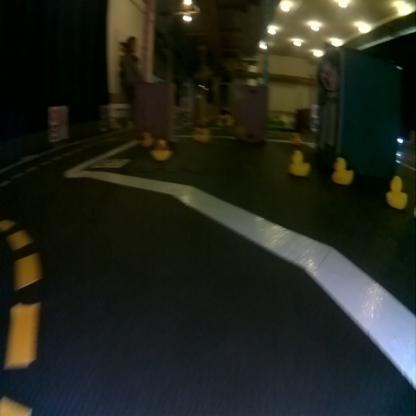Duckie: (386, 175, 406, 209), (331, 157, 353, 184), (289, 150, 308, 174), (151, 140, 172, 160), (141, 132, 151, 144), (199, 128, 208, 140)
QR code: (90, 158, 129, 167)
